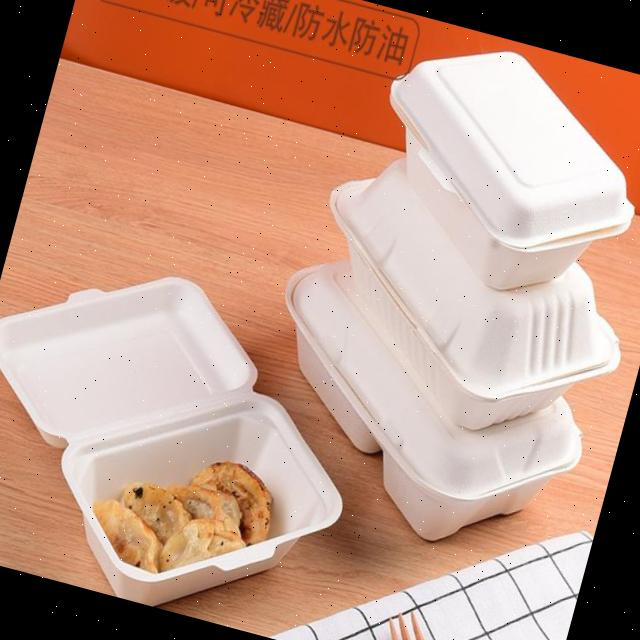styrofoam: (0, 229, 389, 640), (345, 20, 640, 318)
